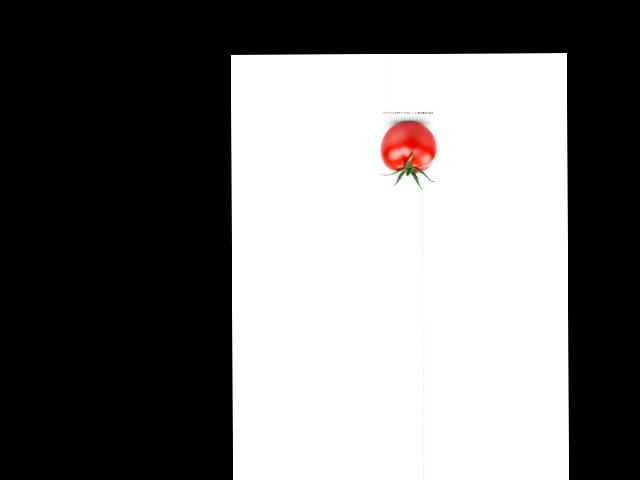tomato: (380, 122, 437, 173)
